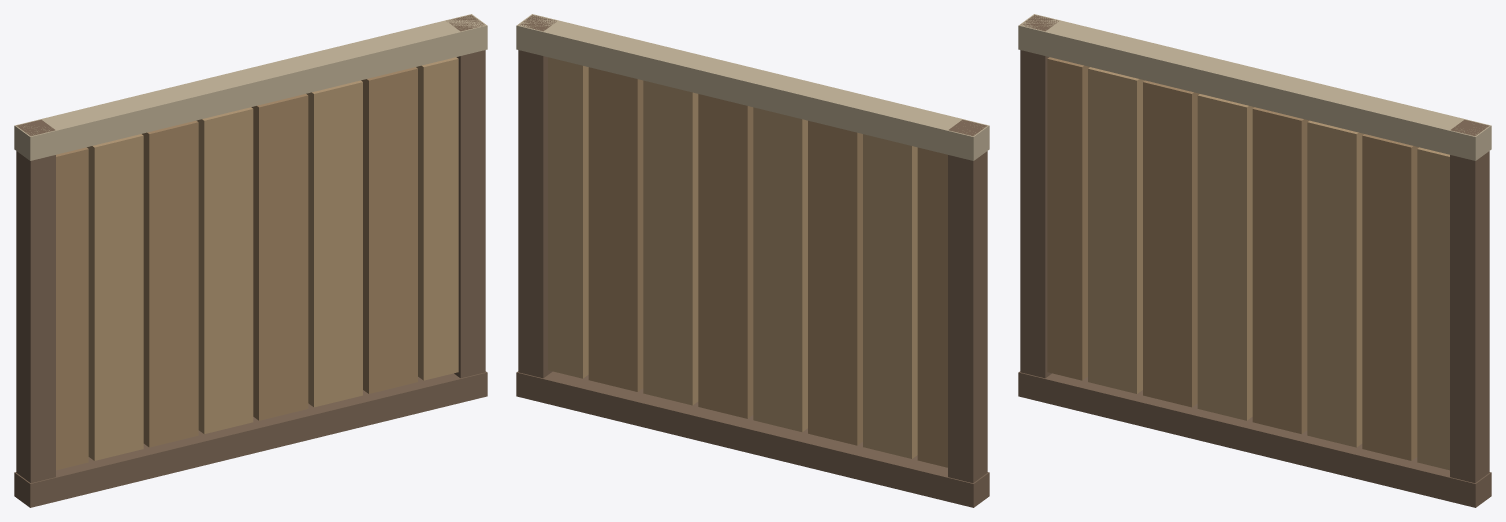
Rendered from wall_solid.glb.
The picture shows the model from 3 angles, left to right: view 1: azimuth 30°, elevation 25°; view 2: azimuth 150°, elevation 25°; view 3: azimuth 330°, elevation 25°; orthographic projection.
Parts seen in each view (by area): view 1: wall_solid_2, wall_solid_7, wall_solid_8, wall_solid_6, wall_solid_5, wall_solid_10, wall_solid_9, wall_solid_3, wall_solid_0, wall_solid_11, wall_solid_4, wall_solid_1; view 2: wall_solid_2, wall_solid_10, wall_solid_9, wall_solid_8, wall_solid_7, wall_solid_6, wall_solid_5, wall_solid_3, wall_solid_0, wall_solid_11, wall_solid_1, wall_solid_4; view 3: wall_solid_2, wall_solid_7, wall_solid_8, wall_solid_9, wall_solid_10, wall_solid_5, wall_solid_6, wall_solid_3, wall_solid_1, wall_solid_4, wall_solid_11, wall_solid_0.
Part boxes in pixels (x1,y1,x2,y2): wall_solid_2: (14,14,487,160); wall_solid_7: (196,107,253,434); wall_solid_8: (251,94,308,420); wall_solid_6: (142,120,198,447); wall_solid_5: (87,134,143,460); wall_solid_10: (361,67,417,393); wall_solid_9: (306,80,362,407); wall_solid_3: (14,371,487,507); wall_solid_0: (16,119,55,482); wall_solid_11: (416,57,458,380); wall_solid_4: (56,147,88,470); wall_solid_1: (446,15,485,378); wall_solid_2: (516,14,989,160); wall_solid_10: (588,67,643,391); wall_solid_9: (643,80,698,405); wall_solid_8: (698,94,753,418); wall_solid_7: (753,107,807,432); wall_solid_6: (808,120,862,445); wall_solid_5: (863,134,917,458); wall_solid_3: (516,371,989,507); wall_solid_0: (948,119,987,482); wall_solid_11: (548,57,588,378); wall_solid_1: (518,15,556,378); wall_solid_4: (917,147,947,467); wall_solid_2: (1018,14,1491,160); wall_solid_7: (1197,94,1254,420); wall_solid_8: (1252,107,1309,434); wall_solid_9: (1307,120,1363,447); wall_solid_10: (1362,134,1418,460); wall_solid_5: (1088,67,1144,393); wall_solid_6: (1143,80,1199,407); wall_solid_3: (1018,371,1491,507); wall_solid_1: (1450,119,1489,482); wall_solid_4: (1047,57,1089,380); wall_solid_11: (1417,147,1449,470); wall_solid_0: (1020,15,1058,378).
Size of the model in its own units: 4 by 3.1 by 0.24.
